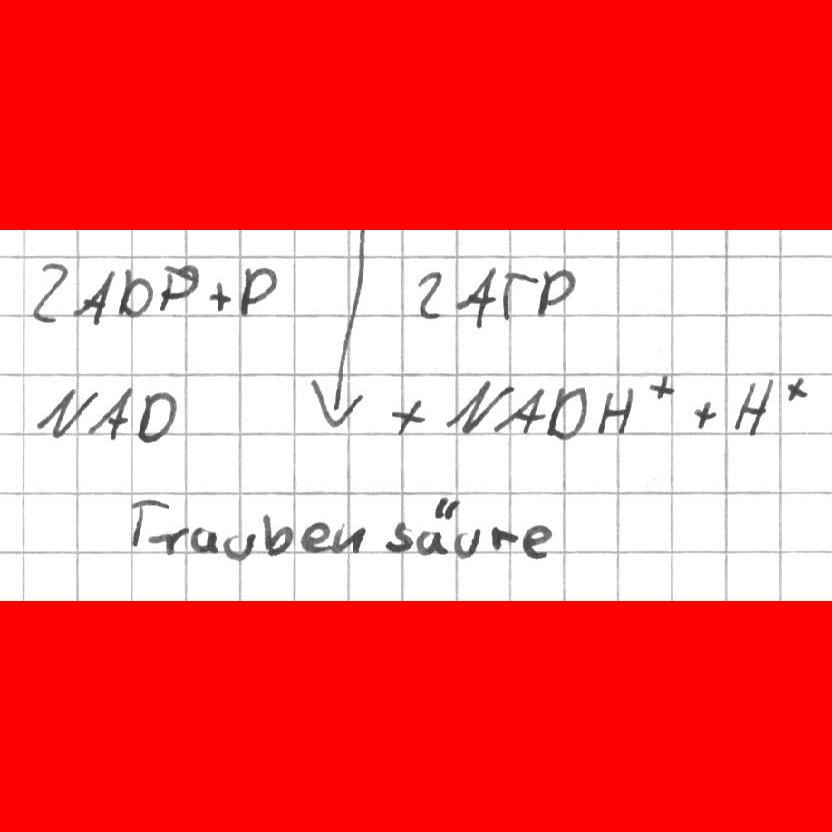Char: (326, 251, 369, 373), (444, 375, 508, 436), (35, 385, 89, 438), (455, 262, 497, 330), (29, 257, 71, 325), (71, 267, 116, 326), (312, 374, 364, 425), (544, 385, 588, 439), (734, 377, 774, 436), (416, 497, 453, 559), (125, 496, 168, 549), (135, 390, 178, 442), (90, 385, 132, 438), (496, 387, 544, 433), (155, 264, 200, 313), (239, 261, 277, 319), (537, 266, 577, 316), (595, 386, 635, 435), (500, 269, 536, 320), (118, 269, 152, 318), (260, 510, 294, 559), (389, 396, 425, 437), (415, 268, 443, 320), (520, 522, 554, 559), (221, 529, 258, 562), (152, 524, 187, 557), (332, 521, 364, 554), (301, 520, 330, 554), (647, 370, 676, 404), (384, 519, 412, 554), (453, 523, 481, 558), (191, 524, 216, 555), (692, 398, 717, 429), (490, 524, 518, 551), (209, 281, 232, 312), (785, 375, 808, 402)
